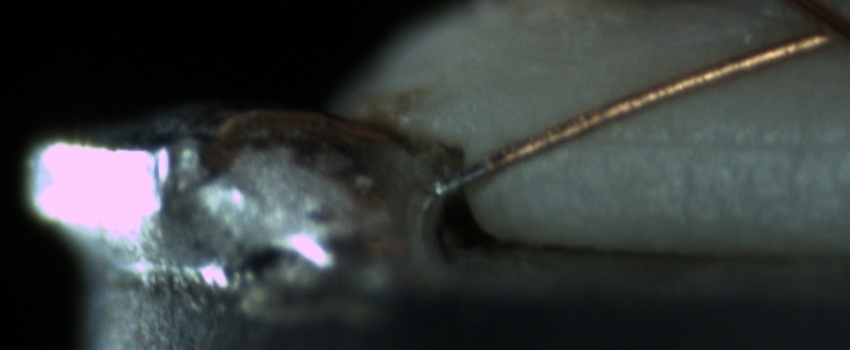CL: (773, 4, 850, 58)
DL: (560, 111, 843, 173)
TS: (430, 158, 491, 195)
